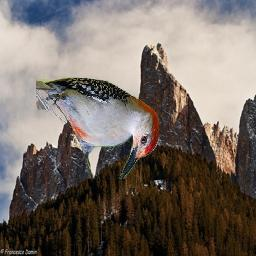Woodpecker: (37, 77, 160, 180)
